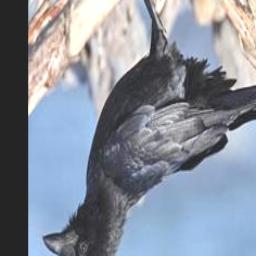Crow: (41, 0, 256, 256)
